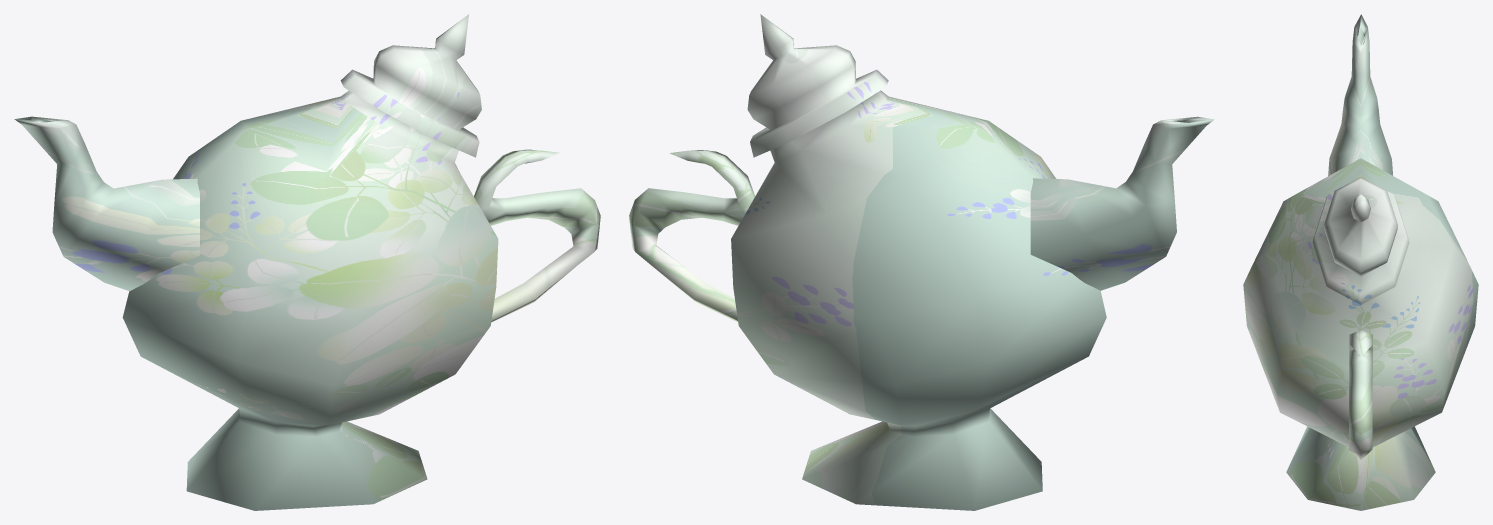
Rendered from texutred teapot 8.FBX.
3 views of the same model, side by side, from view 1: azimuth 30°, elevation 25°; view 2: azimuth 150°, elevation 25°; view 3: azimuth 270°, elevation 25° (orthographic). The views are drawn at different scales.
Visible parts, largest first — view 1: 1; view 2: 1; view 3: 1.
Boxes of the visible parts, bbox=[...] form: 1: bbox=[14, 14, 600, 510]; 1: bbox=[629, 14, 1214, 510]; 1: bbox=[1243, 14, 1478, 510].
Bounding box in the file's own units: 51.54 × 36.23 × 22.63.
Materials: 1 (1 with a texture image).
